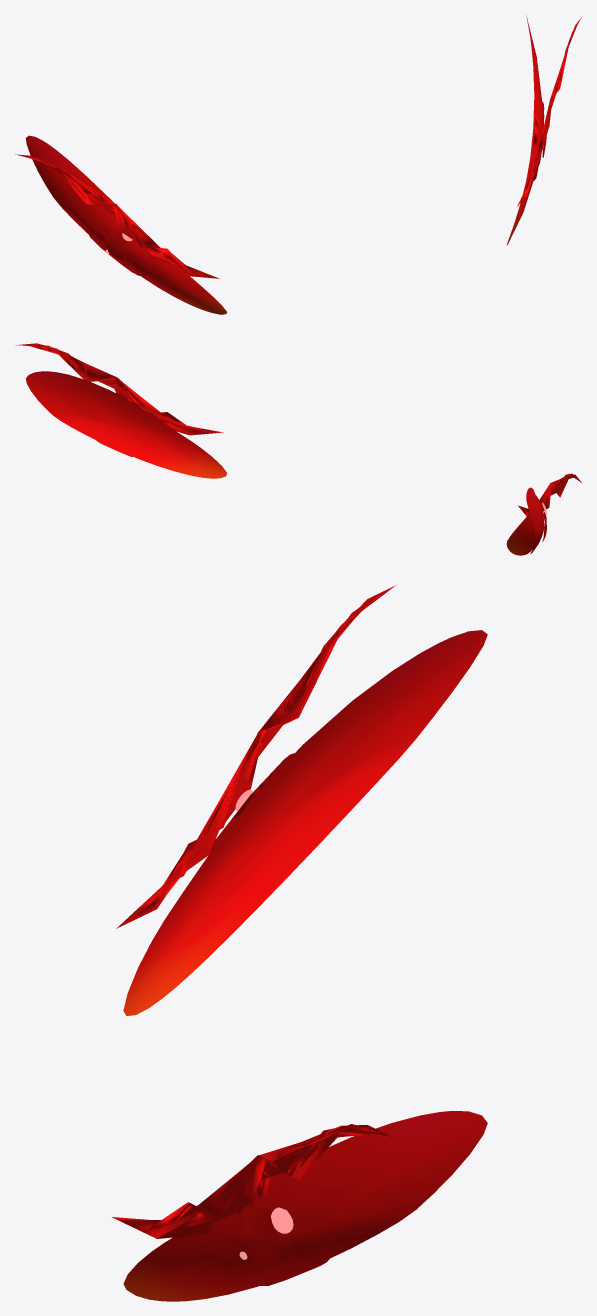
Rendered from GXR_EYES_02_ARCANE.glb.
3 renders of one model, top to bottom at view 1: azimuth 30°, elevation 25°; view 2: azimuth 150°, elevation 25°; view 3: azimuth 270°, elevation 25°, orthographic. The views are drawn at different scales.
Parts seen in each view (by area): view 1: Mesh_EyeSurface_R.009, Mesh_Living_Eyelid_R.005, Mesh_Iris_Detailed_R.005, Mesh_EyeSurface_L.009, Mesh_Living_Eyelid_L.005, Mesh_Pupil_Detailed_R.005, Mesh_Iris_Detailed_L.005; view 2: Mesh_EyeSurface_L.009, Mesh_Living_Eyelid_L.005, Mesh_EyeSurface_R.009, Mesh_Living_Eyelid_R.005; view 3: Mesh_EyeSurface_R.009, Mesh_EyeSurface_L.009, Mesh_Iris_Detailed_L.005, Mesh_Living_Eyelid_L.005, Mesh_Living_Eyelid_R.005, Mesh_Pupil_Detailed_L.005.
Boxes of the visible parts, box(x1,y1,x2,y2) form: Mesh_EyeSurface_R.009: box(25, 135, 226, 314); Mesh_Living_Eyelid_R.005: box(15, 154, 219, 278); Mesh_Iris_Detailed_R.005: box(85, 208, 155, 276); Mesh_EyeSurface_L.009: box(506, 15, 541, 245); Mesh_Living_Eyelid_L.005: box(517, 17, 581, 206); Mesh_Pupil_Detailed_R.005: box(104, 230, 129, 260); Mesh_Iris_Detailed_L.005: box(532, 101, 544, 180); Mesh_EyeSurface_L.009: box(25, 371, 226, 478); Mesh_Living_Eyelid_L.005: box(15, 343, 223, 435); Mesh_EyeSurface_R.009: box(506, 487, 542, 555); Mesh_Living_Eyelid_R.005: box(518, 473, 582, 516); Mesh_EyeSurface_R.009: box(123, 630, 487, 1015); Mesh_EyeSurface_L.009: box(123, 1111, 487, 1301); Mesh_Iris_Detailed_L.005: box(209, 1172, 337, 1286); Mesh_Living_Eyelid_L.005: box(112, 1124, 396, 1238); Mesh_Living_Eyelid_R.005: box(116, 585, 396, 928); Mesh_Pupil_Detailed_L.005: box(242, 1208, 290, 1266).
Size of the model in its own units: 0.4852 by 0.1196 by 0.1398.
